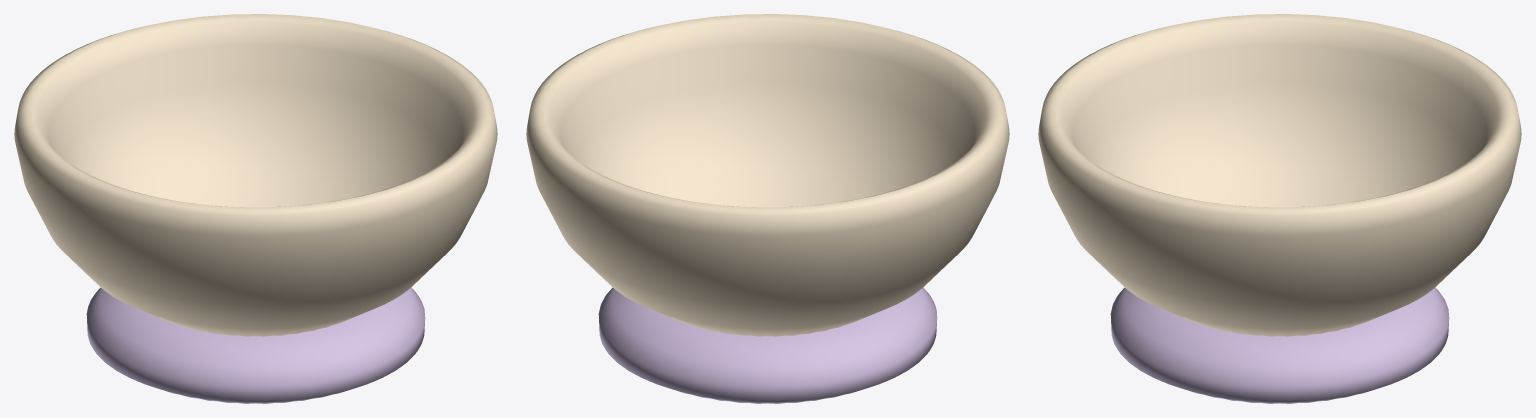
File: bowls_c.glb
3 views of the same model, side by side, from view 1: azimuth 30°, elevation 25°; view 2: azimuth 150°, elevation 25°; view 3: azimuth 270°, elevation 25° (orthographic).
Parts seen in each view (by area): view 1: body; view 2: body; view 3: body.
Part boxes in pixels (x1,y1,x2,y2): body: [14, 14, 497, 403]; body: [526, 14, 1009, 403]; body: [1038, 14, 1521, 403].
Size of the model in its own units: 0.1737 by 0.0935 by 0.1737.
